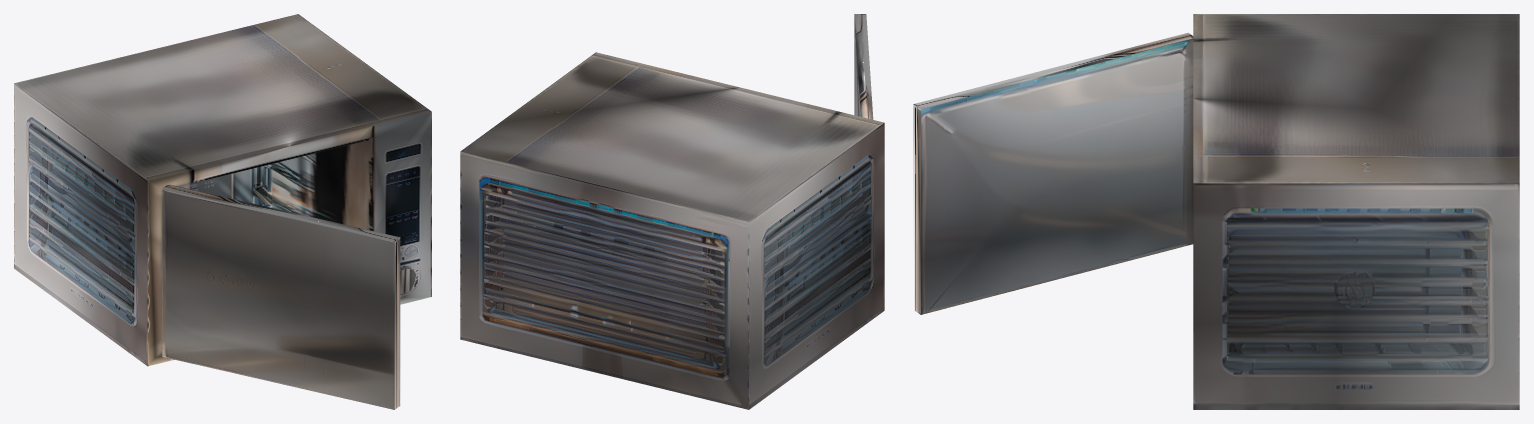
File: Meshy-model.glb
3 views of the same model, side by side, from view 1: azimuth 30°, elevation 25°; view 2: azimuth 150°, elevation 25°; view 3: azimuth 270°, elevation 25° (orthographic). The views are drawn at different scales.
Size of the model in its own units: 6 by 3.74 by 9.07.
1 material, 1 textured.
